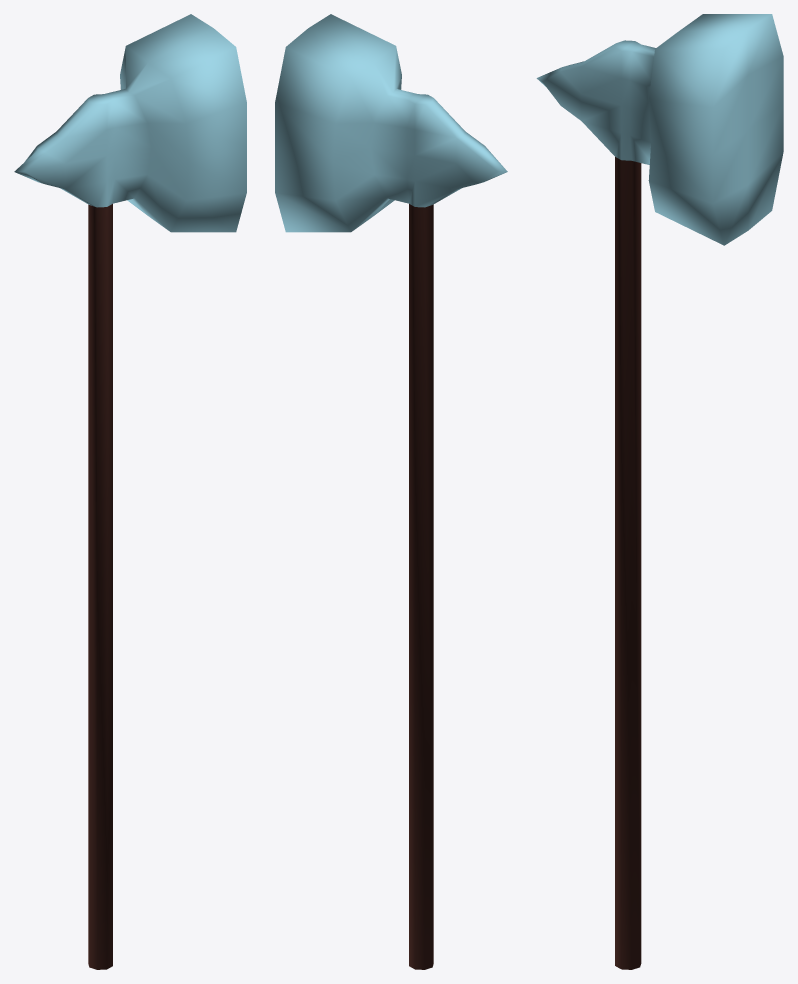
The model's file is PickupWeaponWarhammer.dae.
3 renders of one model, left to right at view 1: azimuth 30°, elevation 25°; view 2: azimuth 150°, elevation 25°; view 3: azimuth 330°, elevation 25°, orthographic. The views are drawn at different scales.
Visible parts, largest first — view 1: PickupWeaponWarhammer; view 2: PickupWeaponWarhammer; view 3: PickupWeaponWarhammer.
Boxes of the visible parts, x1=… form: PickupWeaponWarhammer: x1=14, y1=14, x2=246, y2=969; PickupWeaponWarhammer: x1=275, y1=14, x2=507, y2=969; PickupWeaponWarhammer: x1=536, y1=14, x2=783, y2=969.
Size of the model in its own units: 0.3575 by 0.2066 by 1.56.
